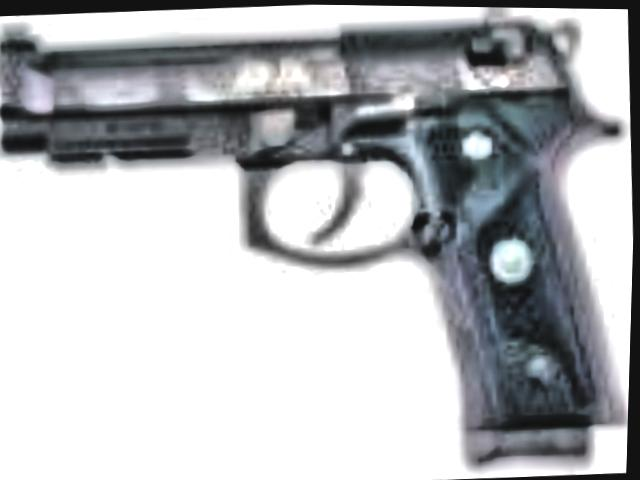pistol: (0, 0, 633, 451)
